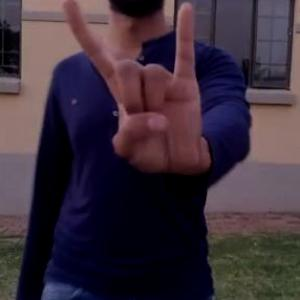takeoff-hand: (56, 0, 200, 182)
